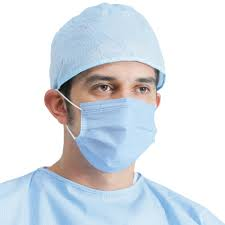with_mask_and_cap: (48, 4, 160, 171)
